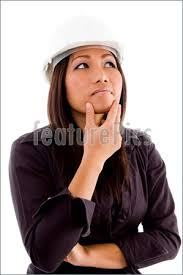Person_wearing_helmet: (40, 10, 125, 80)
